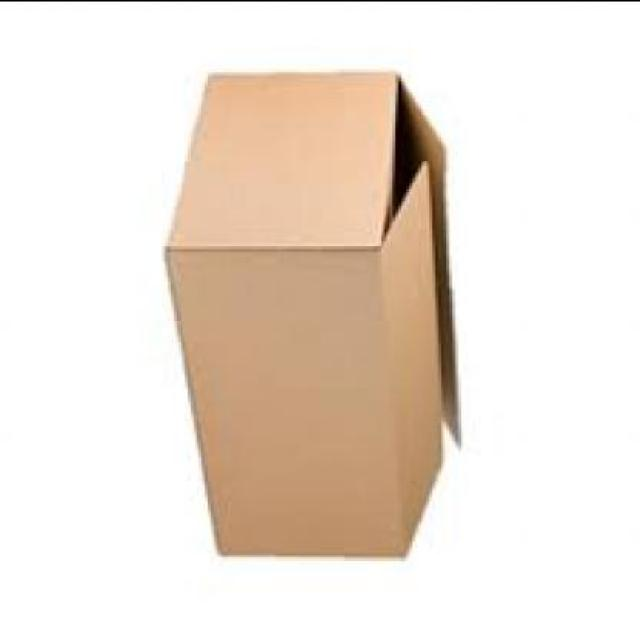CARDBOARD: (165, 66, 464, 554)
